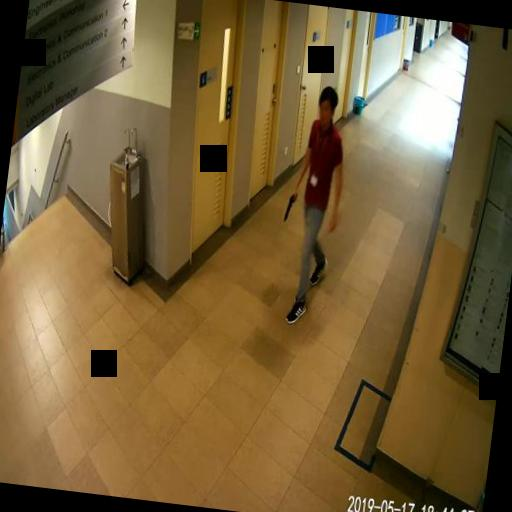Handgun: (282, 189, 296, 220)
